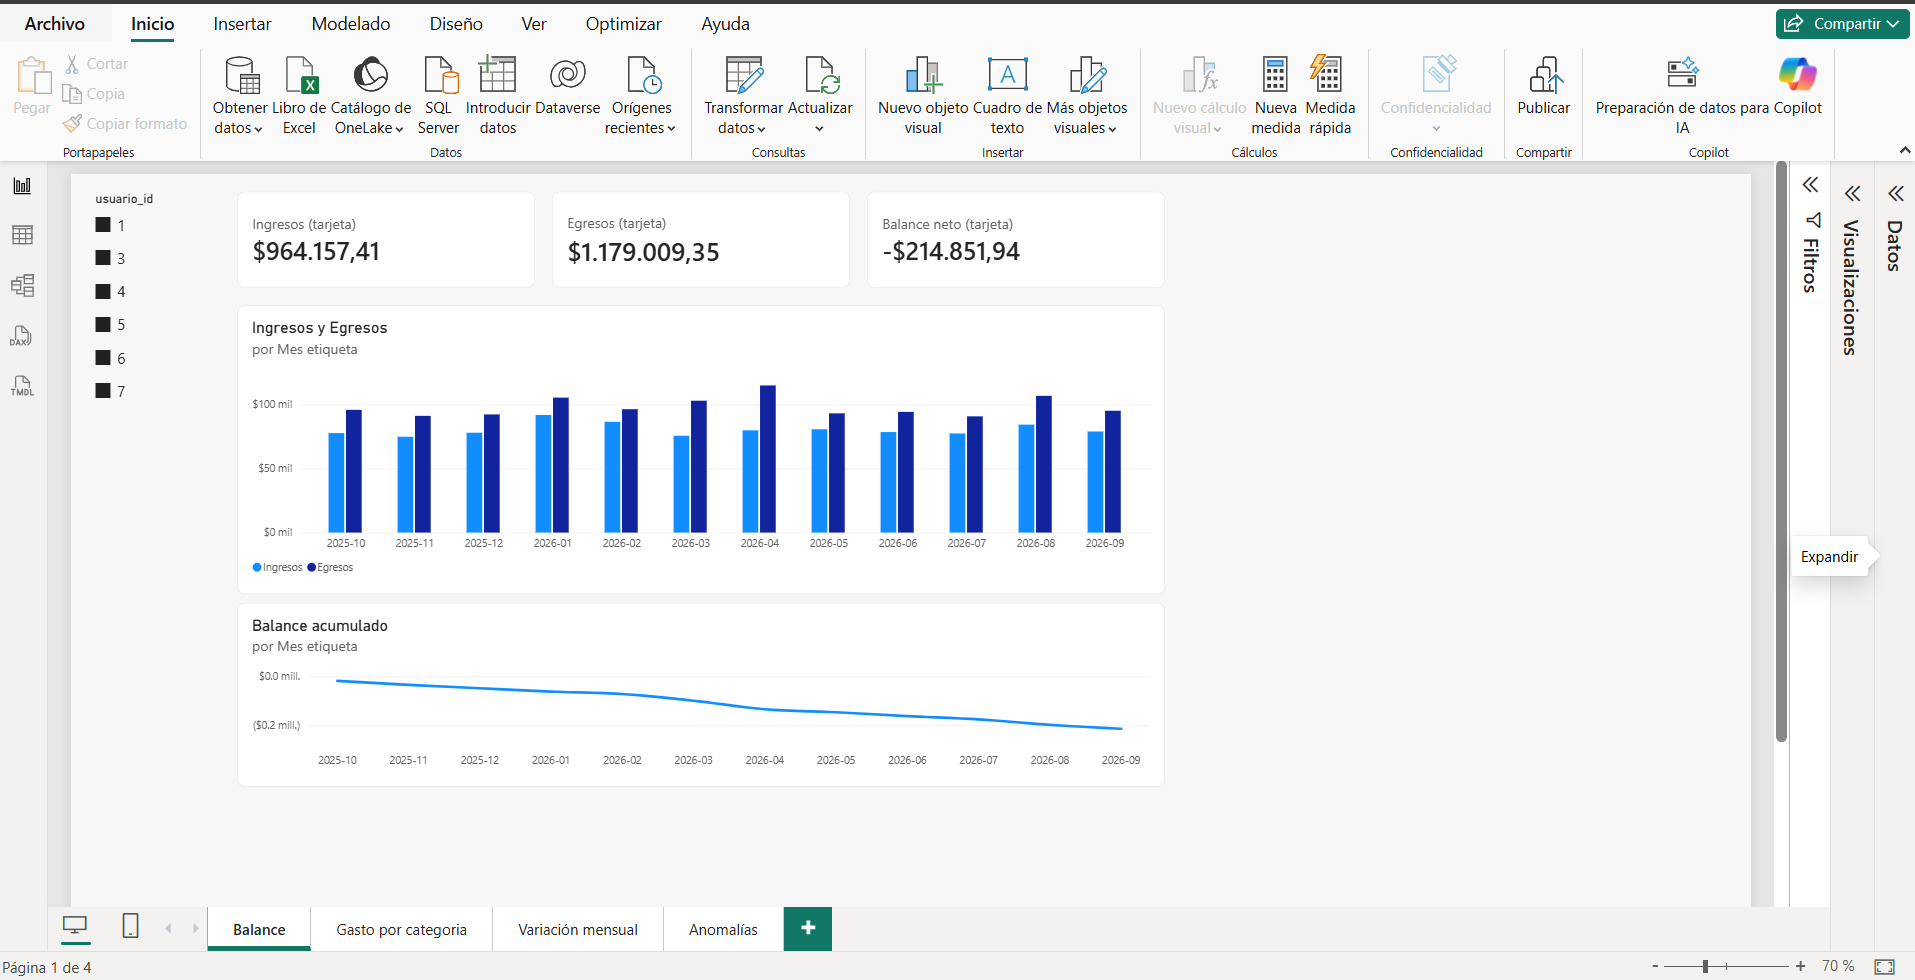

The dashboard page shown, as its layout file describes it:
{"tool":"powerbi","page":{"name":"Balance","canvas":[1920,1080],"ordinal":0},"visuals":[{"type":"slicer","fields":{"Values":["dim_usuario.usuario_id"]},"box":[20,20,150,255.7],"z":0},{"type":"cardVisual","fields":{"Data":["balance_mensual.Ingresos (tarjeta)"]},"box":[190,20,340,110],"z":1},{"type":"cardVisual","fields":{"Data":["balance_mensual.Egresos (tarjeta)"]},"box":[550,20,340,110],"z":2},{"type":"cardVisual","fields":{"Data":["balance_mensual.Balance neto (tarjeta)"]},"box":[910,20,340,110],"z":3},{"type":"clusteredColumnChart","fields":{"Category":["dim_mes.Mes etiqueta"],"Y":["balance_mensual.Ingresos","balance_mensual.Egresos"]},"box":[190,150,1060,330],"z":4},{"type":"lineChart","fields":{"Category":["dim_mes.Mes etiqueta"],"Y":["balance_mensual.Balance acumulado"]},"box":[190,490,1060,210],"z":5}]}

Visuals, with their boxes on the page's 1920x1080 design canvas (x1, y1, x2, y2). These are canvas units, not pixel positions in the 1915x980 screenshot, which may show the page scaled, cropped or inside an application window:
slicer - dim_usuario.usuario_id: l=20, t=20, r=170, b=276
cardVisual - balance_mensual.Ingresos (tarjeta): l=190, t=20, r=530, b=130
cardVisual - balance_mensual.Egresos (tarjeta): l=550, t=20, r=890, b=130
cardVisual - balance_mensual.Balance neto (tarjeta): l=910, t=20, r=1250, b=130
clusteredColumnChart - dim_mes.Mes etiqueta x balance_mensual.Ingresos: l=190, t=150, r=1250, b=480
lineChart - dim_mes.Mes etiqueta x balance_mensual.Balance acumulado: l=190, t=490, r=1250, b=700
